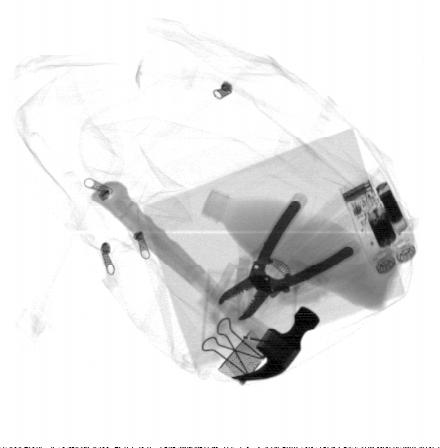Hammer: (90, 180, 320, 380)
Pliers: (217, 192, 353, 319)
